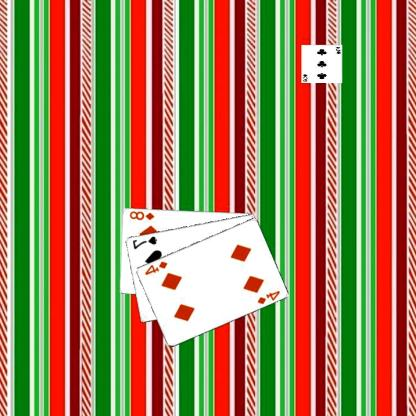4D: (144, 259, 170, 276), (256, 288, 282, 305)
7S: (131, 233, 160, 250)
8D: (128, 209, 157, 222)
